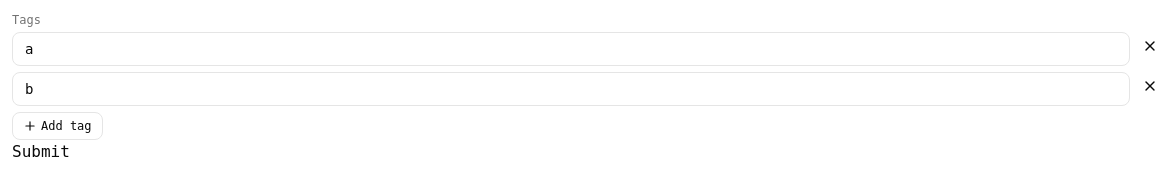
Test: StringListField › shows errors next to the failing item
Clear the field named "Tags 2". click: (571, 89)
box: 12,72 -> 1130,106
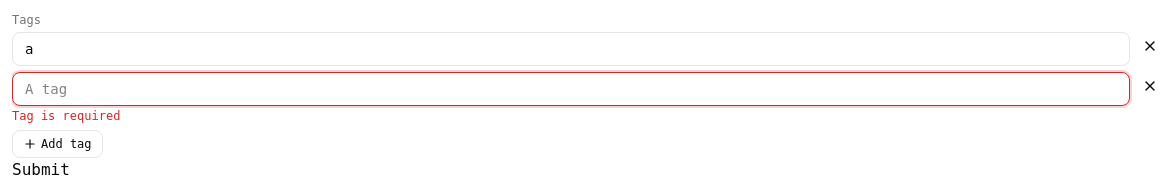
Result: the text "Tag is required" is shown at 12,109 -> 120,123
